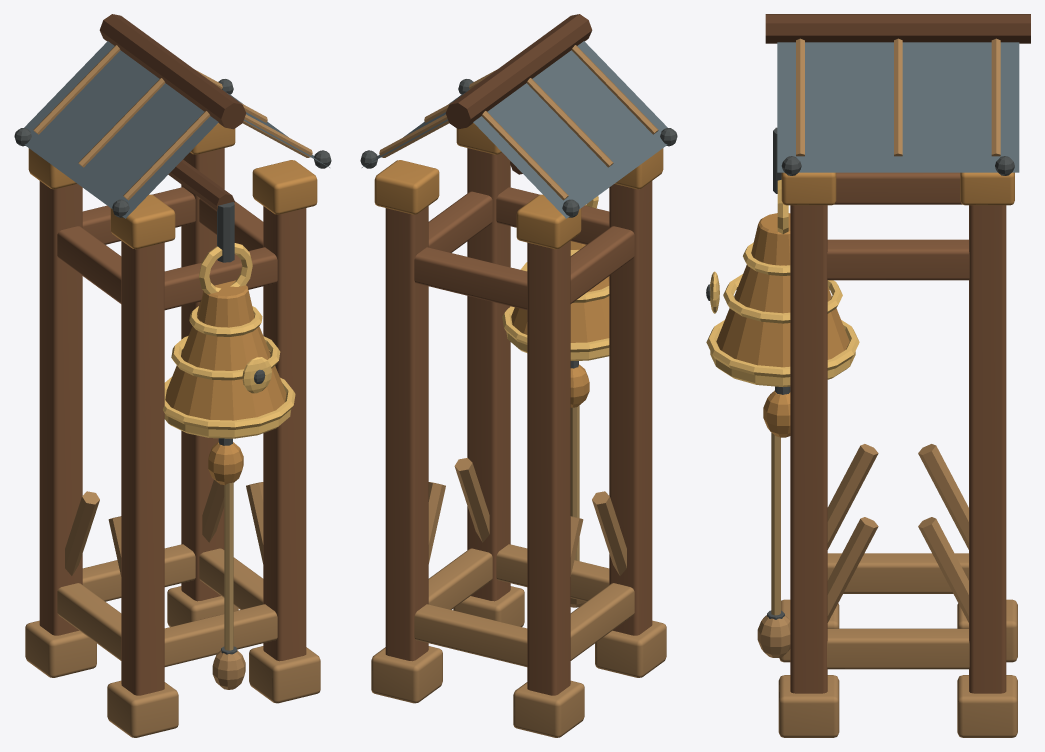
Rendered from sino_anuncio.glb.
3 views of the same model, side by side, from view 1: azimuth 30°, elevation 25°; view 2: azimuth 150°, elevation 25°; view 3: azimuth 270°, elevation 25° (orthographic). The views are drawn at different scales.
Parts seen in each view (by area): view 1: Estrutura | pilar; view 2: Estrutura | pilar; view 3: Estrutura | pilar.
Boxes of the visible parts, left/top/right/bottom form: Estrutura | pilar: left=14, top=14, right=331, bottom=737; Estrutura | pilar: left=360, top=14, right=677, bottom=737; Estrutura | pilar: left=706, top=14, right=1030, bottom=737.
Size of the model in its own units: 0.95 by 2.59 by 1.13.
